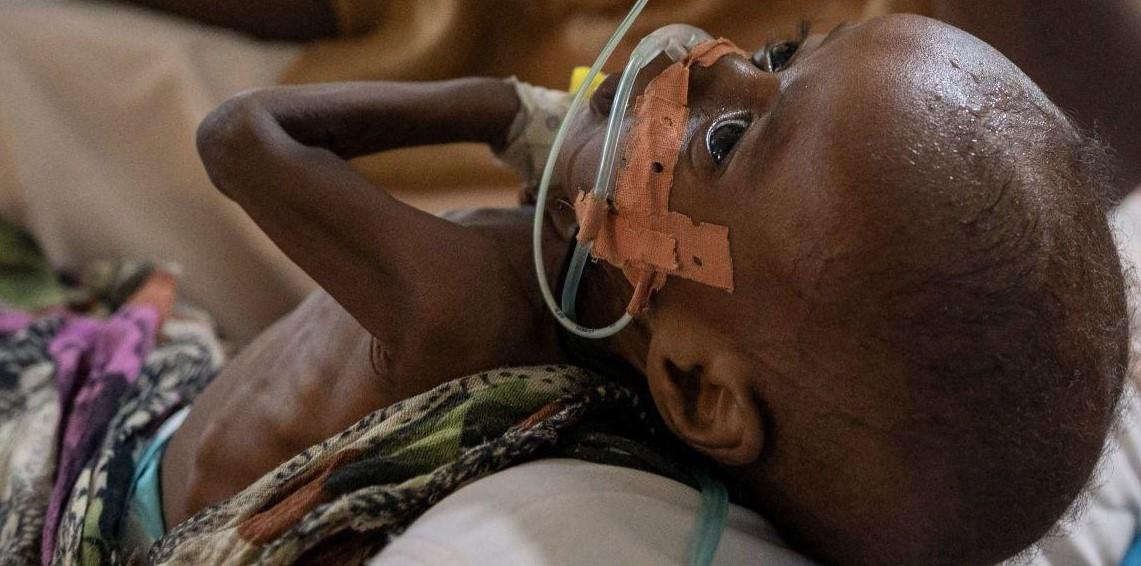Stunting: (496, 0, 1141, 566)
